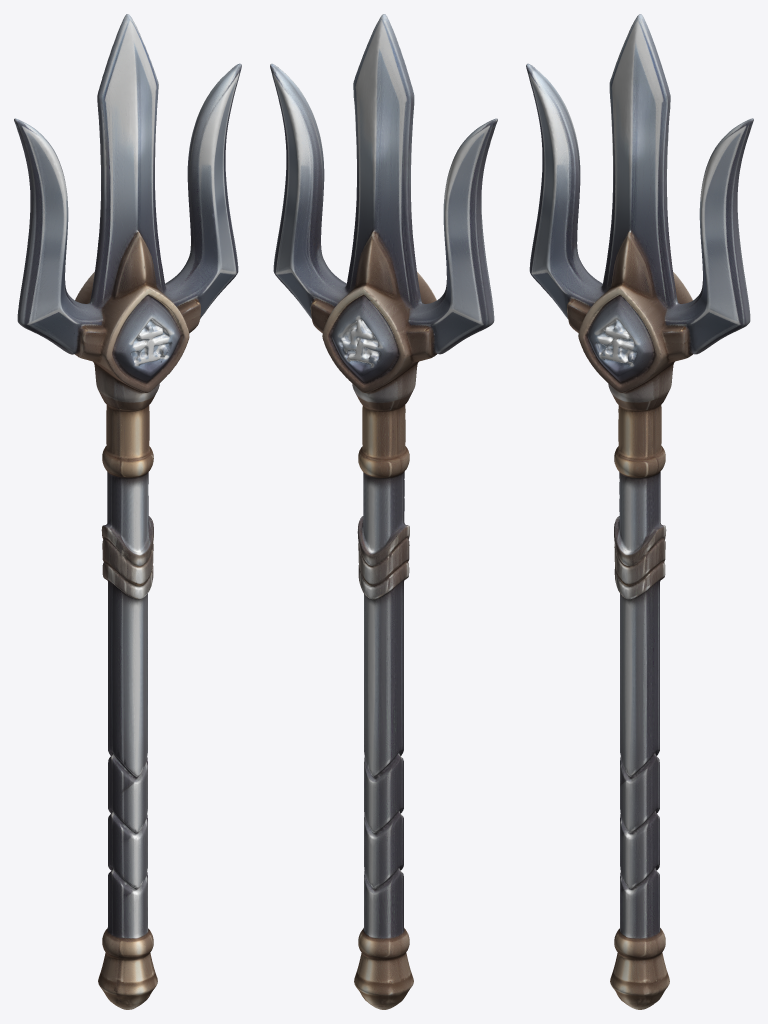
The model's file is 금검_texture.fbx.
The picture shows the model from 3 angles, left to right: view 1: azimuth 30°, elevation 25°; view 2: azimuth 150°, elevation 25°; view 3: azimuth 330°, elevation 25°; orthographic projection.
Parts seen in each view (by area): view 1: Mesh_0; view 2: Mesh_0; view 3: Mesh_0.
Part boxes in pixels (x1,y1,x2,y2): Mesh_0: (14, 14, 241, 1009); Mesh_0: (270, 14, 497, 1009); Mesh_0: (526, 14, 753, 1009).
Bounding box in the file's own units: 45.36 × 190 × 16.89.
1 material, 1 textured.
